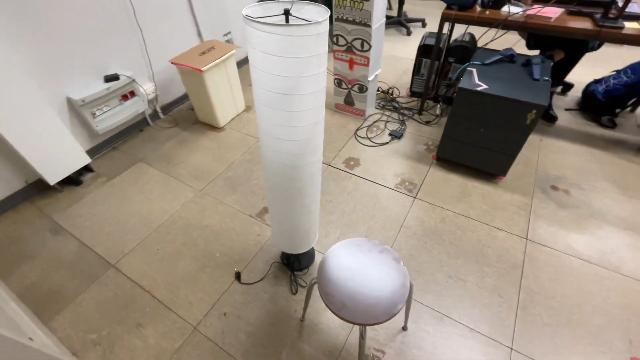Lamp: (237, 0, 331, 278)
Stool: (294, 232, 416, 360)
